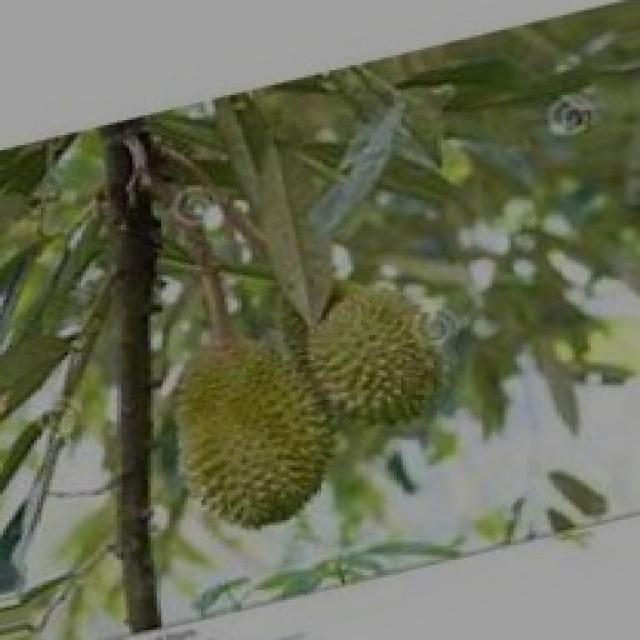fruit: (148, 308, 363, 550), (292, 268, 456, 472)
